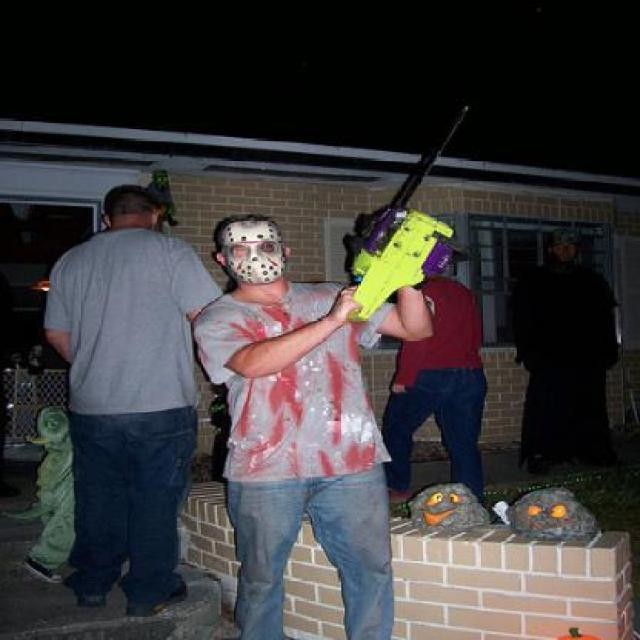Chainsaw: (332, 103, 480, 334)
